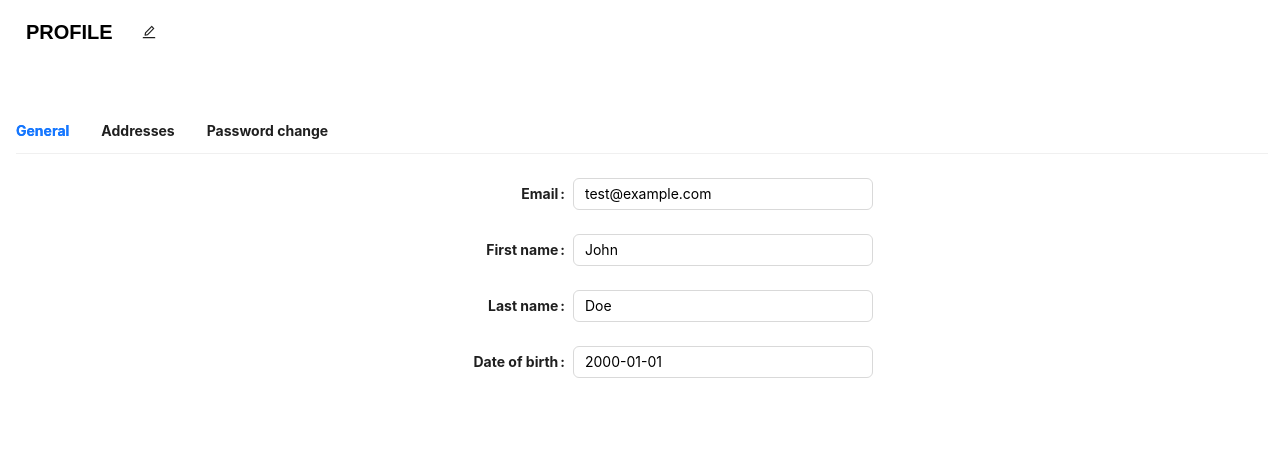
Test: ProfilePage › should switch to edit mode when edit button is clicked
The width and height of the screenshot is (1268, 453).
What coordinates should you click on to do the following:
click the button named "edit"
I would click on:
 (149, 32)
Its box is [133, 16, 165, 48].
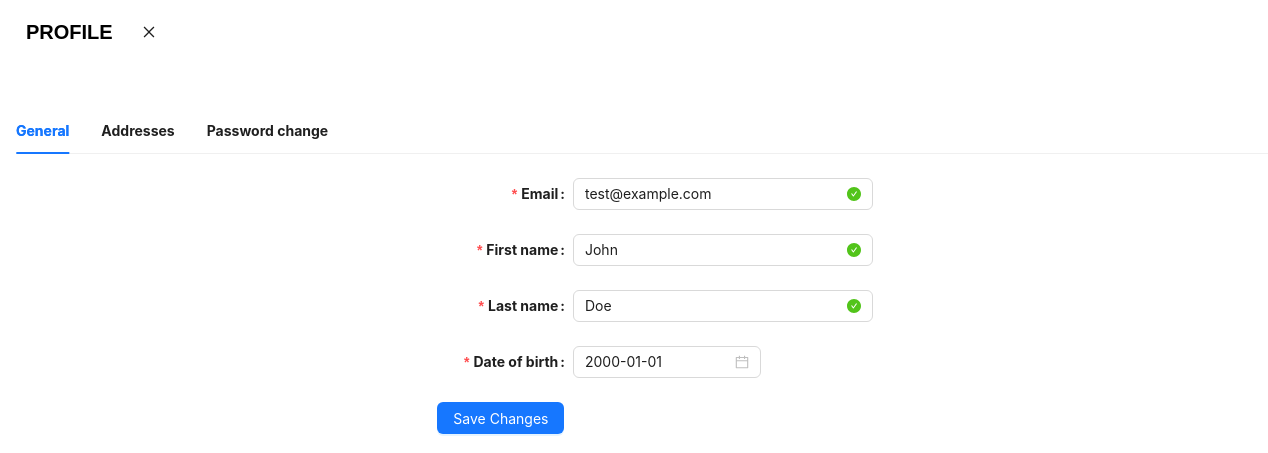
expect the field with placeholder "test@example.com" is enabled: met, box [585, 183, 843, 205]
expect the field with placeholder "John" is enabled: met, box [585, 239, 843, 261]
expect the field with placeholder "Doe" is enabled: met, box [585, 295, 843, 317]
